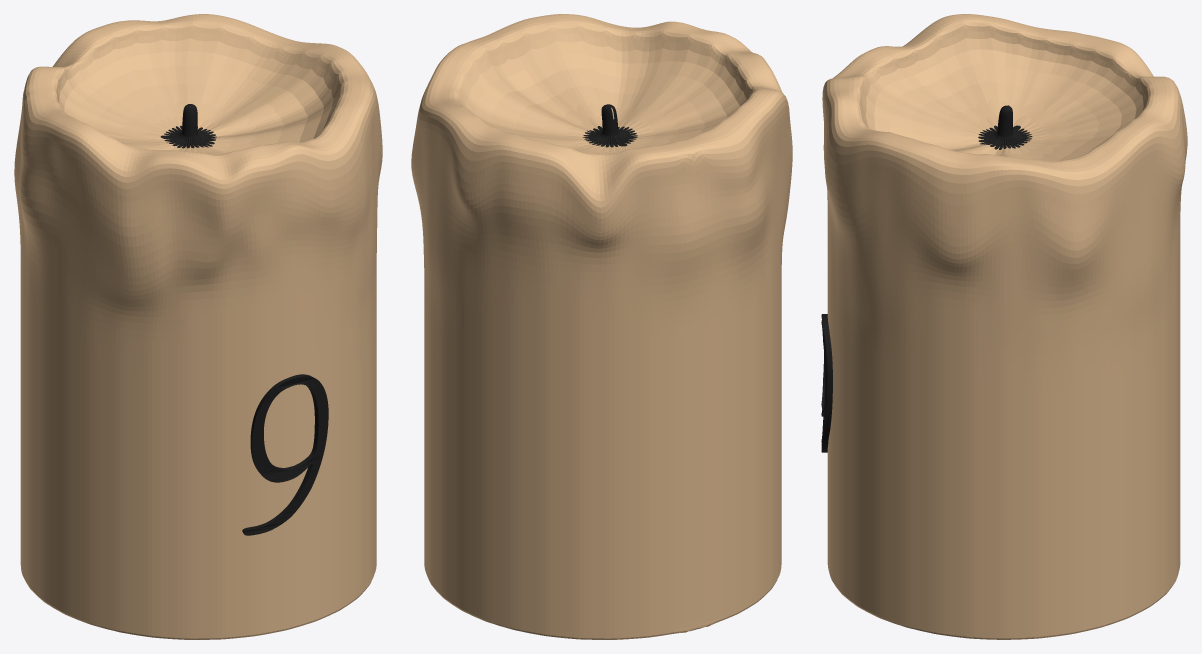
Rendered from Candle-9.fbx.
3 renders of one model, left to right at view 1: azimuth 30°, elevation 25°; view 2: azimuth 150°, elevation 25°; view 3: azimuth 270°, elevation 25°, orthographic.
Parts seen in each view (by area): view 1: Candle, Text; view 2: Candle; view 3: Candle, Text.
Part boxes in pixels (<box>): Candle: <box>14,14,382,639</box>; Text: <box>242,374,328,535</box>; Candle: <box>411,14,792,639</box>; Candle: <box>822,14,1187,639</box>; Text: <box>821,314,832,452</box>.
Size of the model in its own units: 41.75 by 60.84 by 41.42.
